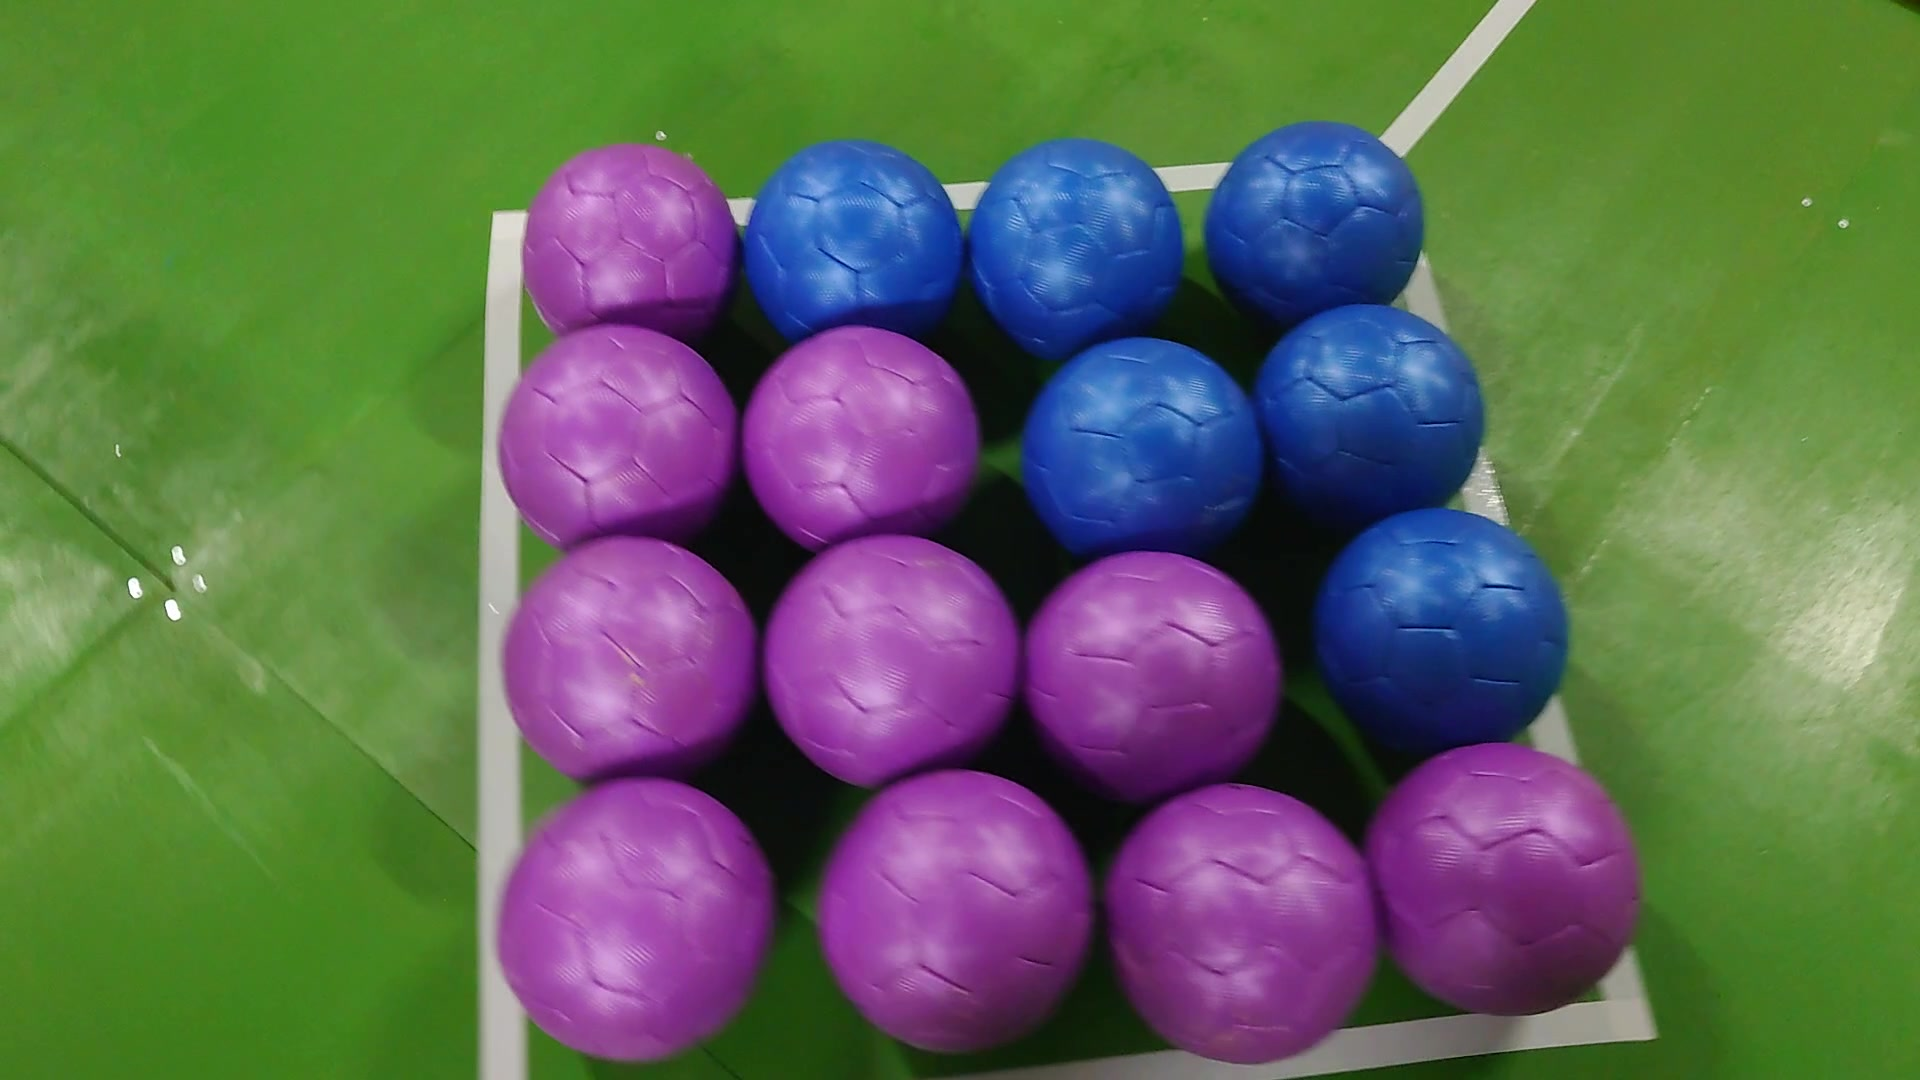blue: (1309, 509, 1575, 754), (1026, 334, 1263, 568), (1254, 301, 1489, 529), (1201, 115, 1431, 334), (745, 137, 969, 343), (969, 137, 1188, 345)
purple: (816, 767, 1097, 1051), (493, 777, 777, 1058), (1106, 781, 1374, 1064), (1365, 745, 1639, 1019), (500, 535, 761, 790), (1022, 549, 1280, 796), (761, 535, 1022, 781), (496, 323, 741, 551), (741, 323, 982, 529), (522, 144, 738, 340)
